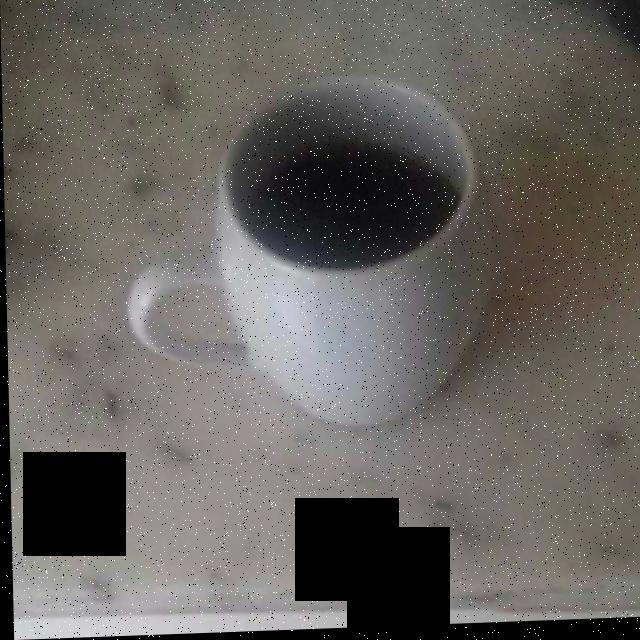drink: (232, 135, 459, 274)
